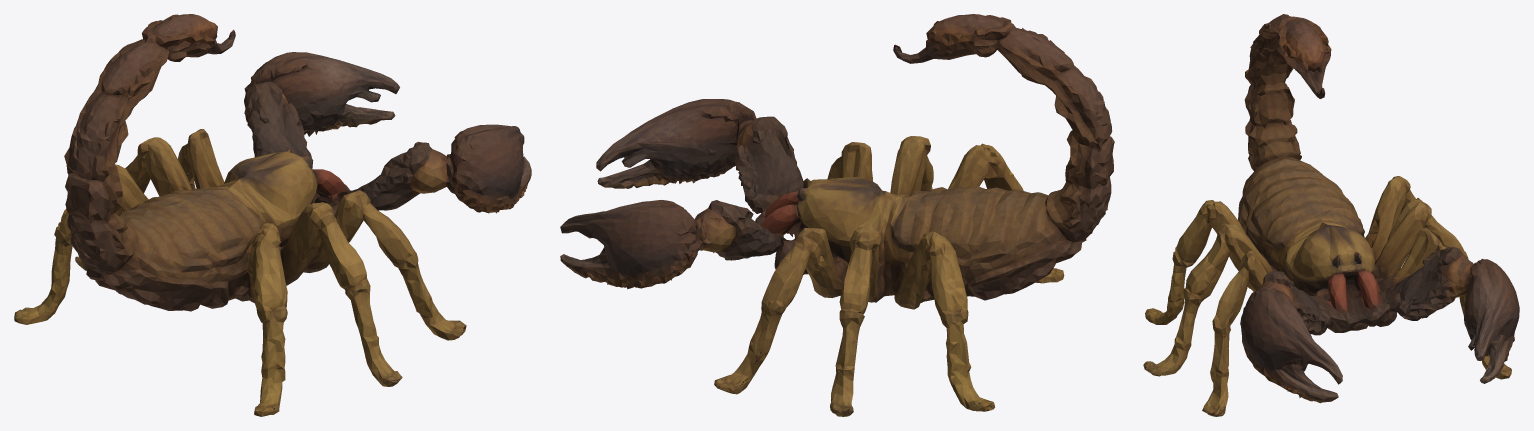
File: deathstalker-scorpion.glb
3 renders of one model, left to right at view 1: azimuth 30°, elevation 25°; view 2: azimuth 150°, elevation 25°; view 3: azimuth 270°, elevation 25°, orthographic. The views are drawn at different scales.
Parts seen in each view (by area): view 1: Object_4; view 2: Object_4; view 3: Object_4.
Part boxes in pixels (bbox=[...]): Object_4: bbox=[14, 14, 531, 416]; Object_4: bbox=[560, 14, 1114, 416]; Object_4: bbox=[1143, 14, 1519, 416].
Bounding box in the file's own units: 1.01 × 0.6677 × 0.7665.
1 material, 1 textured.
